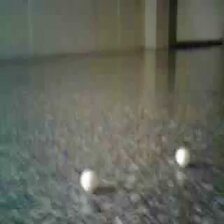w: (80, 170, 98, 191), (175, 148, 190, 167)
